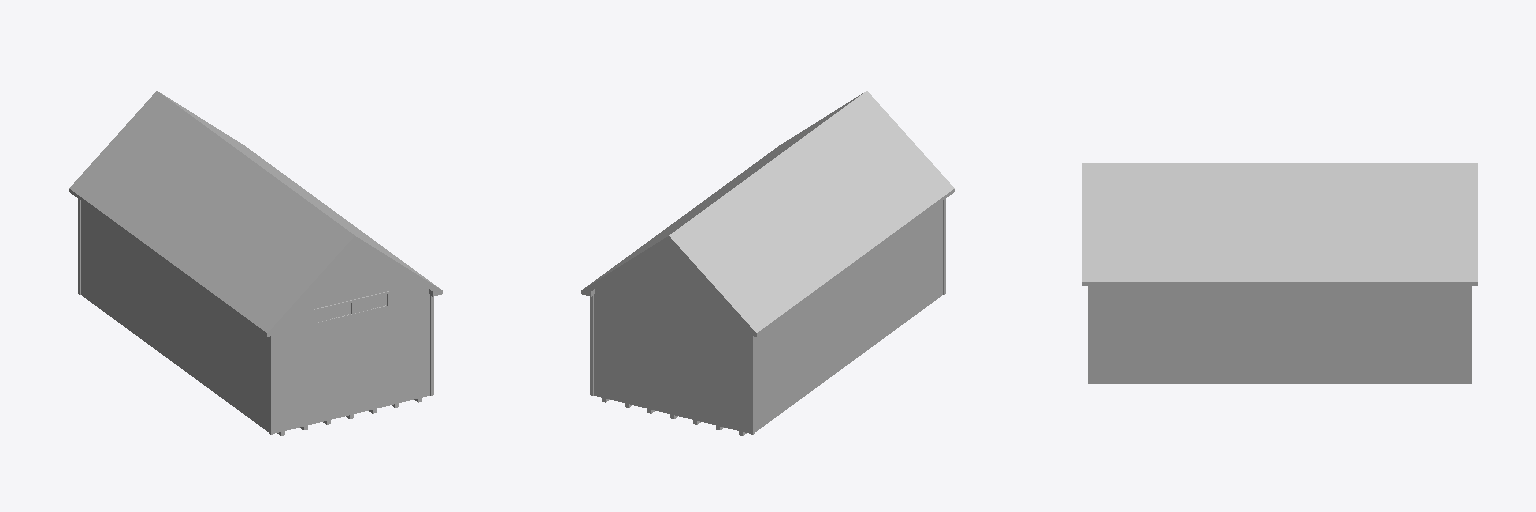
The model's file is Elite Garage_14x28.obj.
3 renders of one model, left to right at view 1: azimuth 30°, elevation 25°; view 2: azimuth 150°, elevation 25°; view 3: azimuth 270°, elevation 25°, orthographic.
Parts seen in each view (by area): view 1: Elite Garage_14x28.obj; view 2: Elite Garage_14x28.obj; view 3: Elite Garage_14x28.obj.
Boxes of the visible parts, box(x1,y1,x2,y2) form: Elite Garage_14x28.obj: box(69, 91, 442, 435); Elite Garage_14x28.obj: box(581, 91, 954, 435); Elite Garage_14x28.obj: box(1082, 163, 1477, 383).
Bounding box in the file's own units: 4.52 × 4.57 × 8.84.